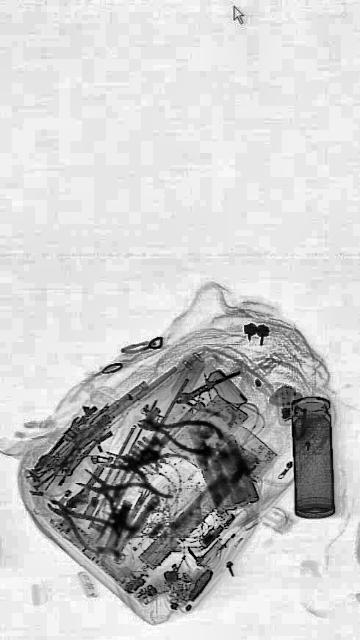Pliers: (71, 446, 161, 544), (98, 433, 188, 502), (42, 481, 112, 561), (136, 400, 222, 462)
